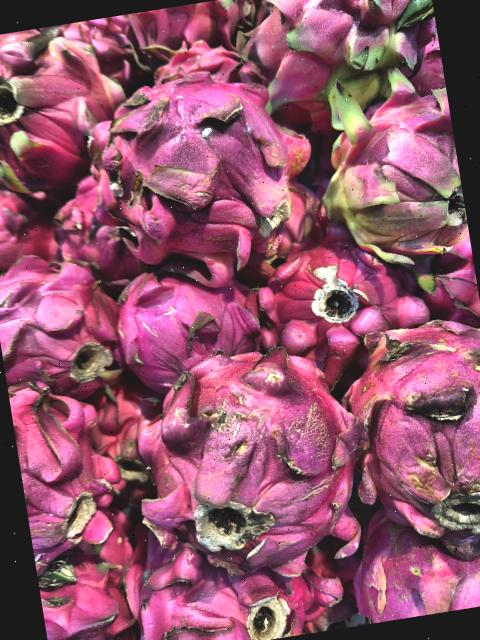buah-naga-belum-matang: (237, 0, 448, 134), (322, 116, 473, 278)
buah-naga-matang: (103, 58, 326, 294), (148, 342, 366, 578), (350, 317, 480, 548), (0, 18, 140, 204), (138, 521, 349, 640), (108, 249, 274, 400), (0, 240, 140, 414)
